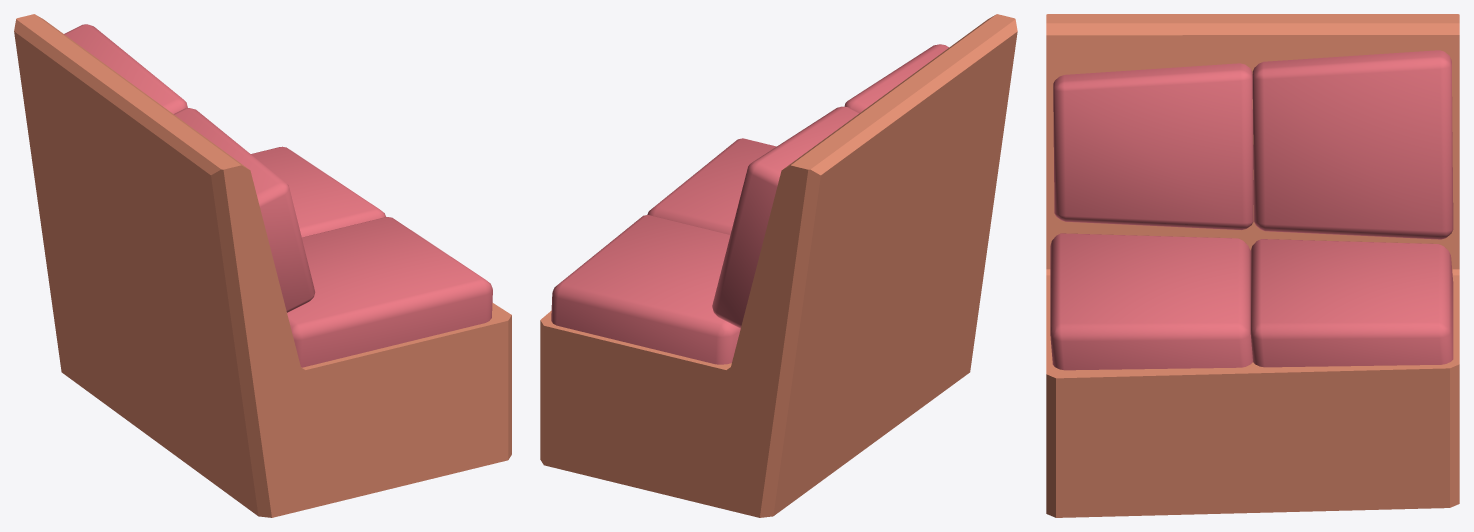
File: Garden_Coach_2.fbx
3 views of the same model, side by side, from view 1: azimuth 30°, elevation 25°; view 2: azimuth 150°, elevation 25°; view 3: azimuth 270°, elevation 25° (orthographic).
Parts seen in each view (by area): view 1: Cube.016, Cube.014, Cube.015; view 2: Cube.016, Cube.014, Cube.015; view 3: Cube.016, Cube.015, Cube.014.
Part boxes in pixels (x1,y1,x2,y2): Cube.016: (14,14,511,517); Cube.014: (251,146,492,367); Cube.015: (64,24,315,312); Cube.016: (540,14,1017,517); Cube.014: (551,138,776,364); Cube.015: (712,44,948,328); Cube.016: (1046,14,1459,517); Cube.015: (1053,50,1453,239); Cube.014: (1050,233,1453,370).
Size of the model in its own units: 107 by 122 by 127.
